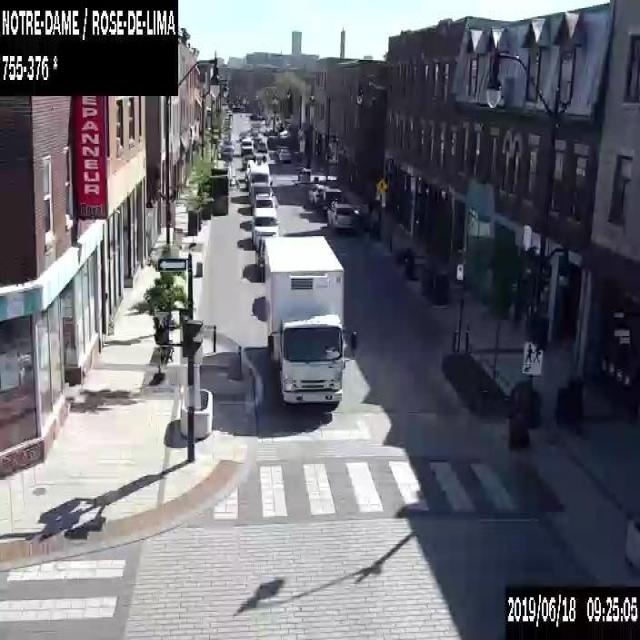vehicle: (264, 234, 356, 409), (252, 207, 278, 246), (247, 155, 273, 194), (326, 203, 354, 228), (316, 188, 341, 215), (250, 182, 274, 208), (254, 236, 266, 282), (308, 183, 330, 204), (240, 138, 253, 154), (220, 146, 232, 160), (276, 148, 290, 160), (241, 155, 252, 167), (257, 140, 266, 152)
